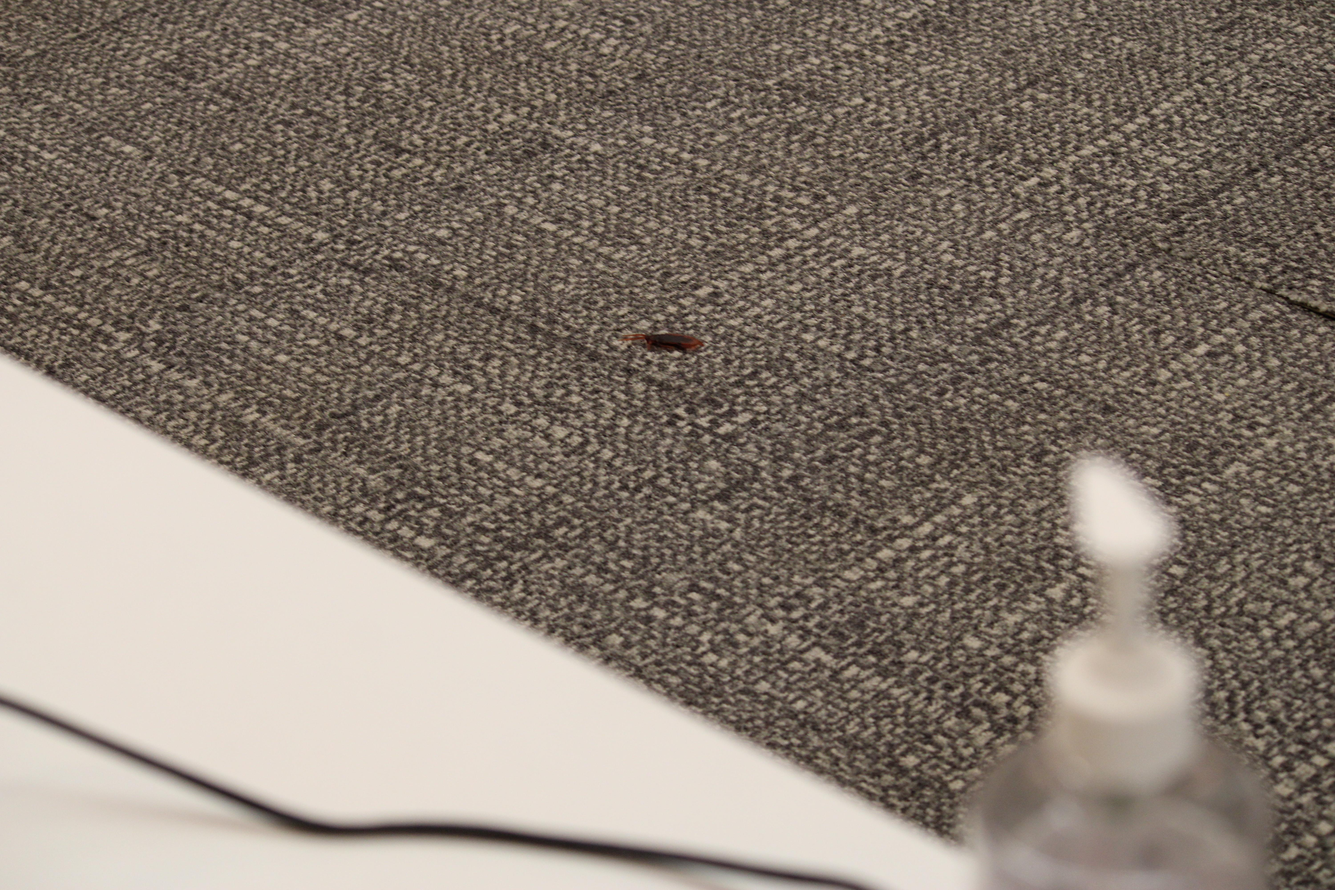cockroach: (619, 305, 695, 362)
